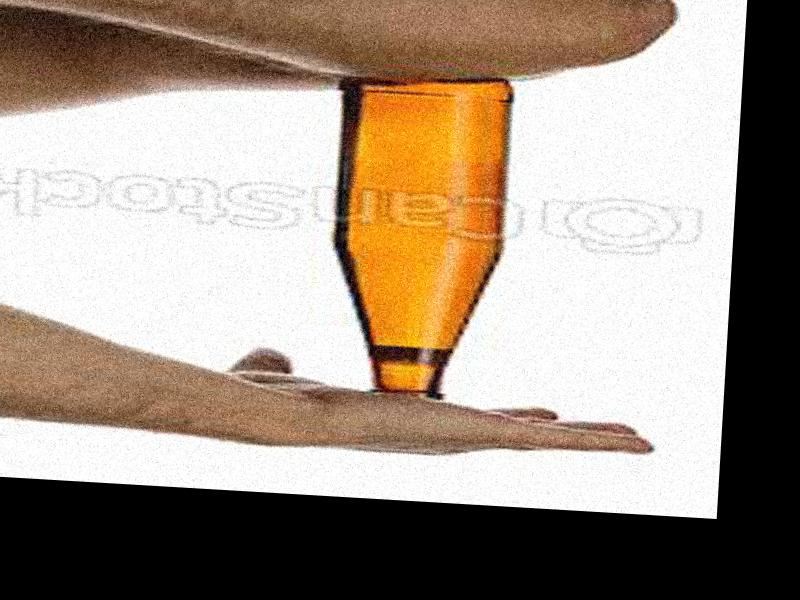Beer: (315, 74, 517, 407)
